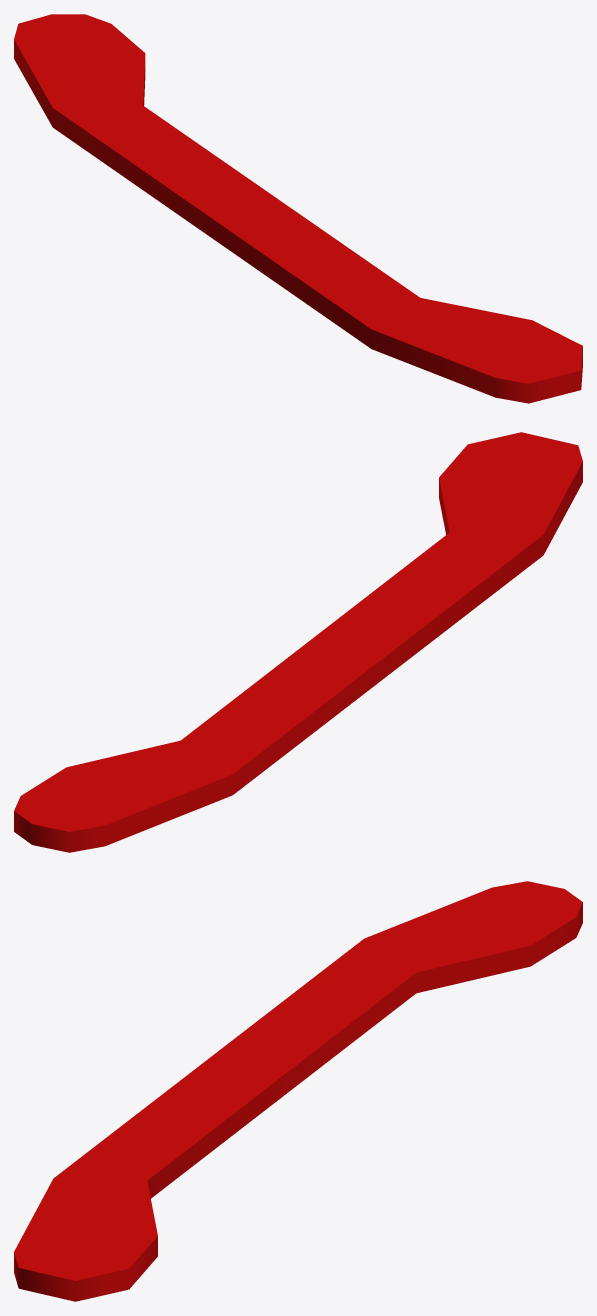
The model's file is rod_3_collision.dae.
3 renders of one model, top to bottom at view 1: azimuth 30°, elevation 25°; view 2: azimuth 150°, elevation 25°; view 3: azimuth 330°, elevation 25°, orthographic. The views are drawn at different scales.
Parts seen in each view (by area): view 1: rod_3_collision; view 2: rod_3_collision; view 3: rod_3_collision.
Part boxes in pixels (<box>): rod_3_collision: <box>14,14,582,403</box>; rod_3_collision: <box>14,432,582,852</box>; rod_3_collision: <box>14,881,582,1301</box>.
Size of the model in its own units: 0.0241 by 0.00296 by 0.1352.
